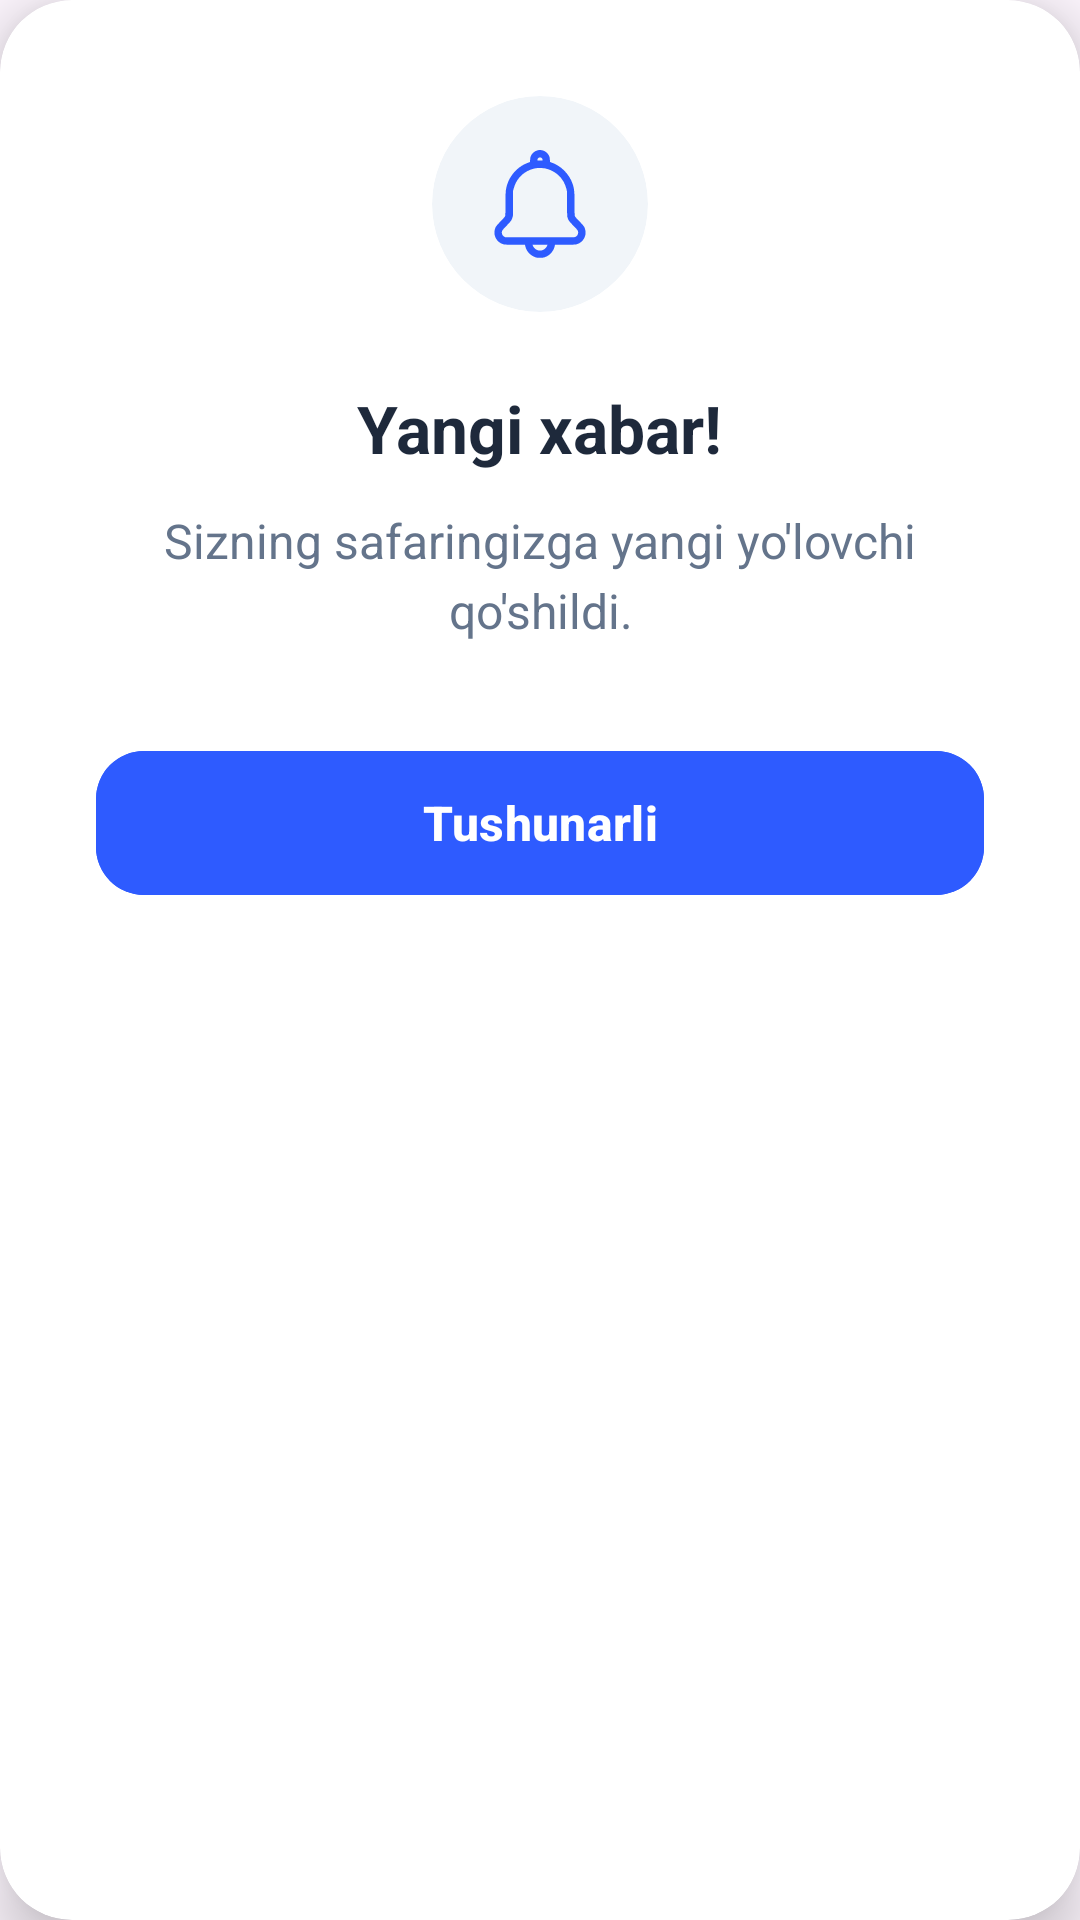

Icon bounding boxes for this 1080 x 1920 phone screenshot, format bbox(x1, y1, x2, y2):
notifications: bbox(432, 96, 648, 312)
